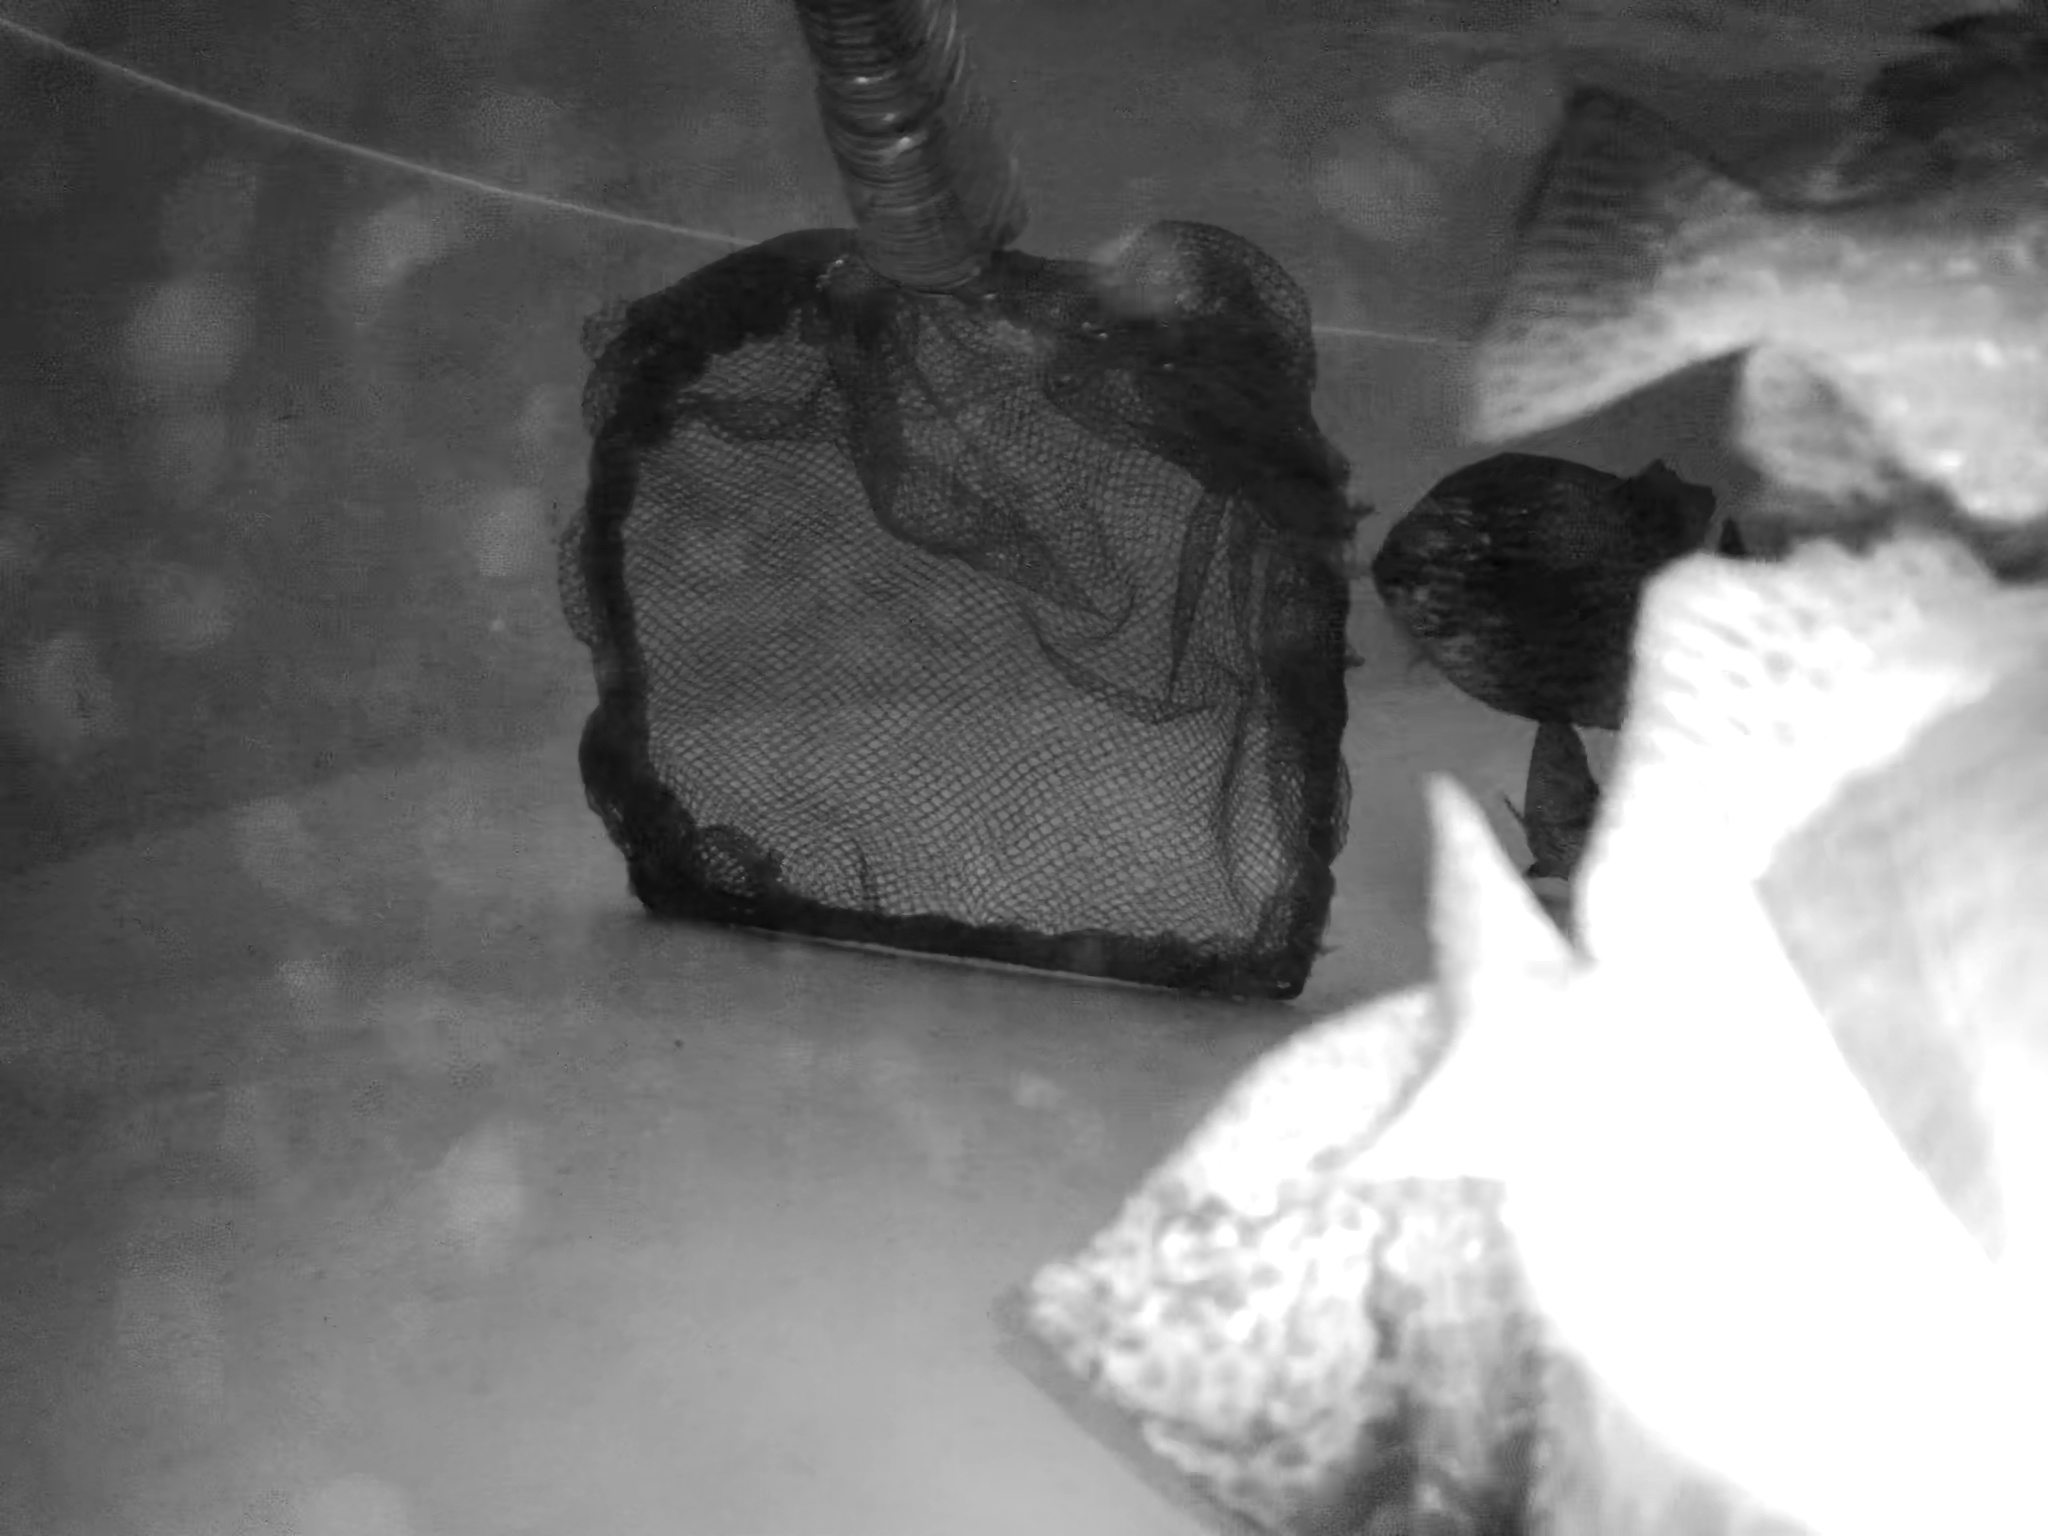fish: (1326, 520, 2048, 1492), (1018, 1008, 1685, 1536), (1455, 77, 2048, 541), (1392, 463, 1764, 720), (1522, 724, 1617, 904)
